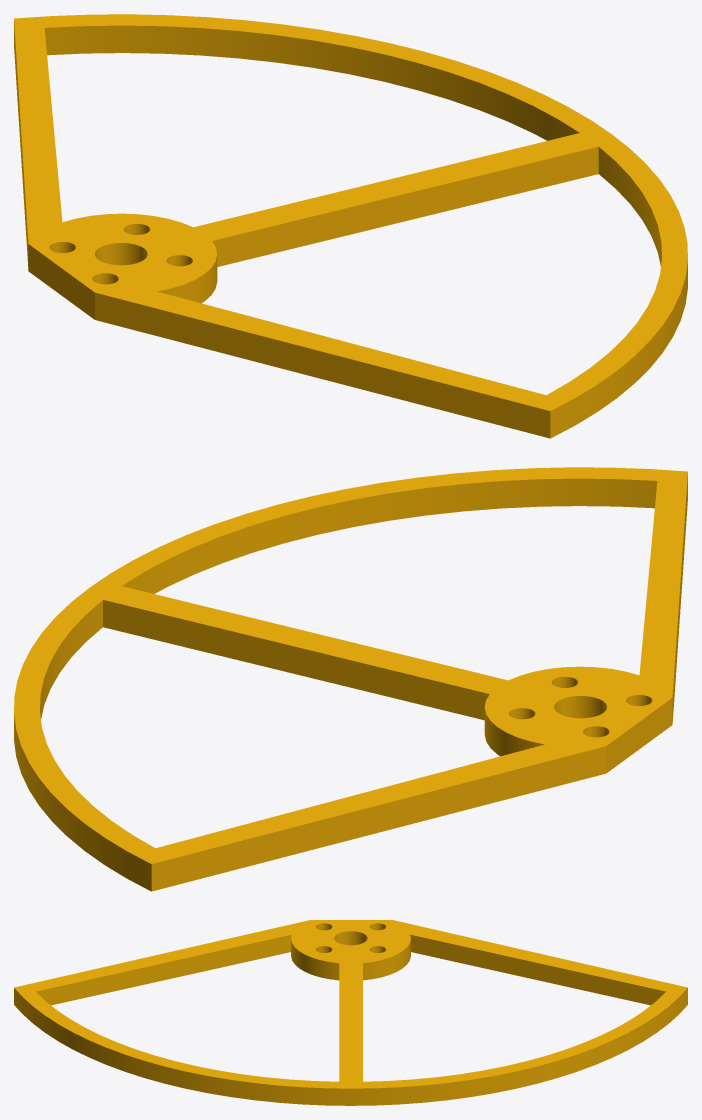
File: guard.dae
The picture shows the model from 3 angles, top to bottom: view 1: azimuth 30°, elevation 25°; view 2: azimuth 150°, elevation 25°; view 3: azimuth 270°, elevation 25°; orthographic projection. The views are drawn at different scales.
Visible parts, largest first — view 1: ID2; view 2: ID2; view 3: ID2.
Boxes of the visible parts, left/top/right/bottom form: ID2: left=14, top=14, right=687, bottom=438; ID2: left=14, top=467, right=687, bottom=891; ID2: left=14, top=920, right=687, bottom=1105.
Size of the model in its own units: 0.0839 by 0.1417 by 0.004.
